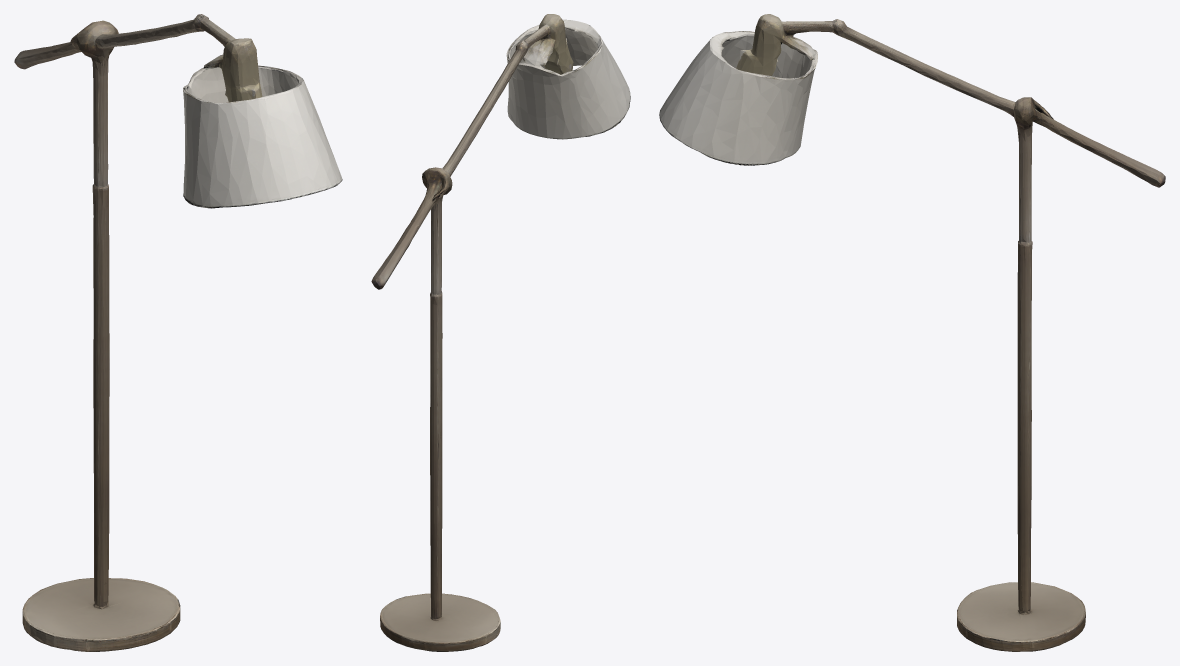
3 views of the same model, side by side, from view 1: azimuth 30°, elevation 25°; view 2: azimuth 150°, elevation 25°; view 3: azimuth 270°, elevation 25° (orthographic). The views are drawn at different scales.
Visible parts, largest first — view 1: geometry_0; view 2: geometry_0; view 3: geometry_0.
Boxes of the visible parts, bbox=[...] form: geometry_0: bbox=[14, 14, 342, 651]; geometry_0: bbox=[371, 14, 630, 651]; geometry_0: bbox=[659, 14, 1165, 651].
Size of the model in its own units: 0.2145 by 1 by 0.7595.
Materials: 1 (1 with a texture image).
